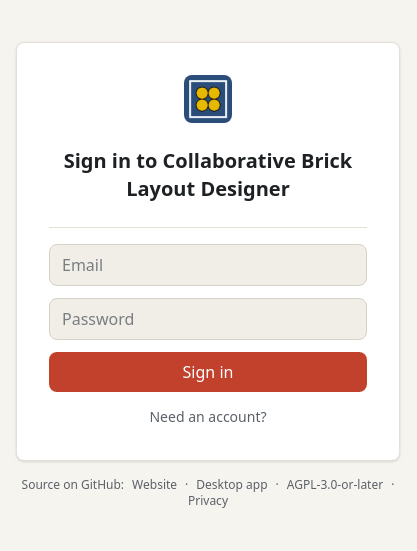
Test: sign-in waits › uses Retry-After for the per-address limit, in minutes when long
Step 1. Type "sam@example.com" into the field labelled "Email" → (208, 264), box [49, 244, 367, 286]
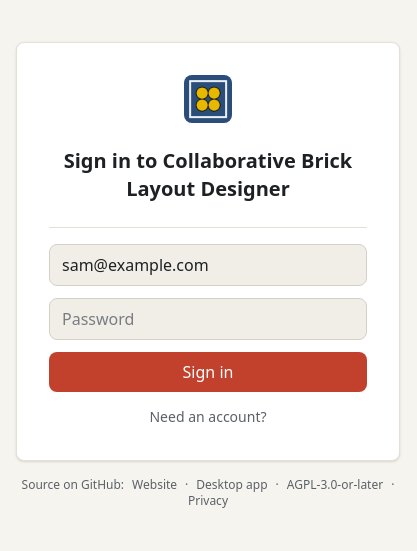
Step 2. Type "some-password-1" into the password field labelled "Password" → (208, 318), box [49, 298, 367, 340]
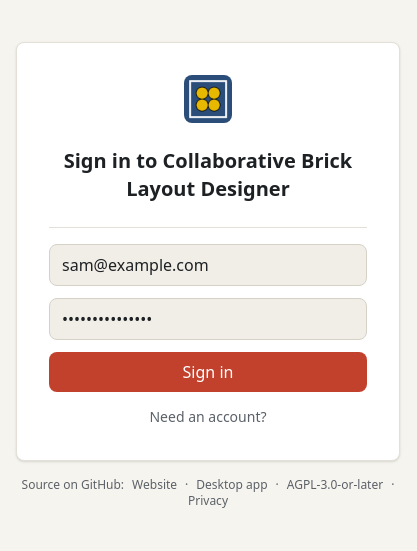
Step 3. Click the button "Sign in" → click(208, 372), box [49, 352, 367, 392]
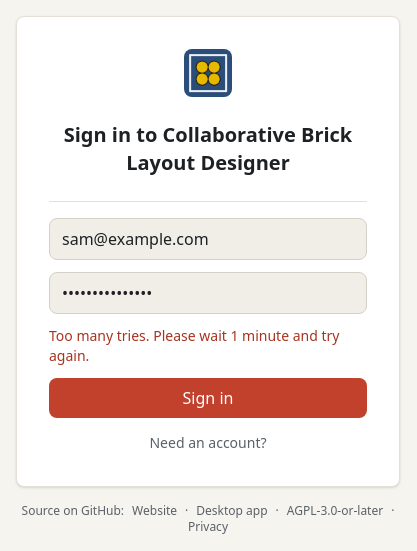
Expected: the text "Too many tries. Please wait 1 minute and try again." is shown, [49, 326, 367, 366]
